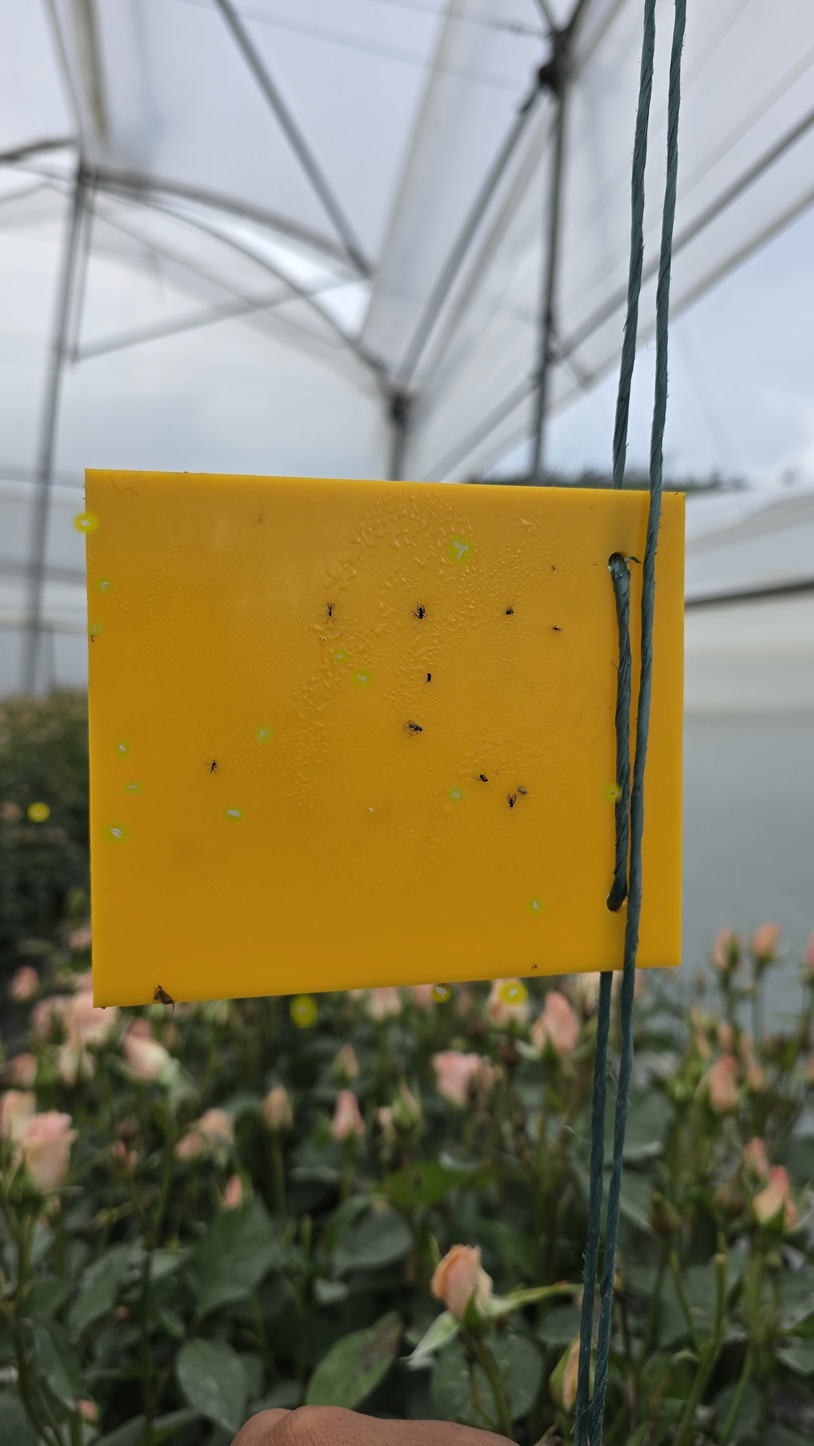WF: (294, 998, 313, 1023), (450, 538, 470, 561), (104, 823, 127, 842), (501, 984, 523, 1002), (76, 514, 95, 531), (354, 670, 370, 685), (603, 785, 619, 800), (527, 899, 544, 913), (31, 805, 46, 819), (433, 986, 448, 1000), (225, 808, 242, 820), (116, 741, 128, 757), (97, 579, 111, 592), (449, 787, 463, 800), (257, 727, 270, 741), (125, 782, 140, 793), (334, 651, 346, 661), (89, 624, 101, 634), (367, 807, 375, 814)
